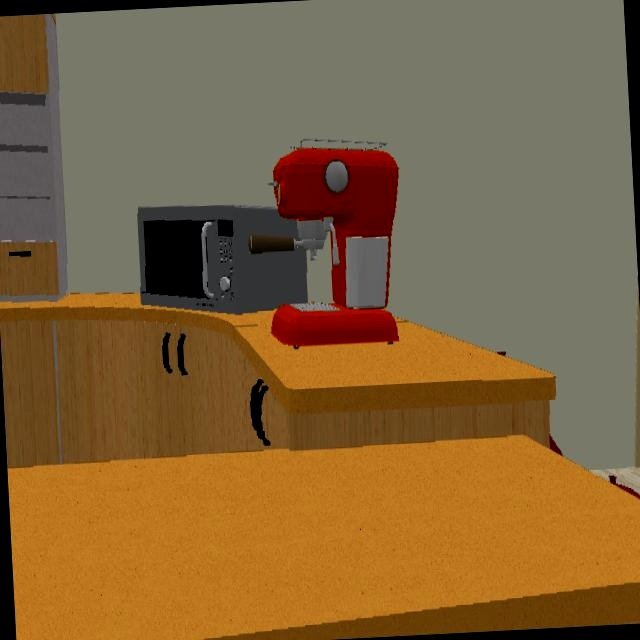countertop: (7, 436, 640, 640), (0, 293, 553, 392)
microwave: (138, 206, 302, 313)
shelf: (0, 14, 67, 296)
